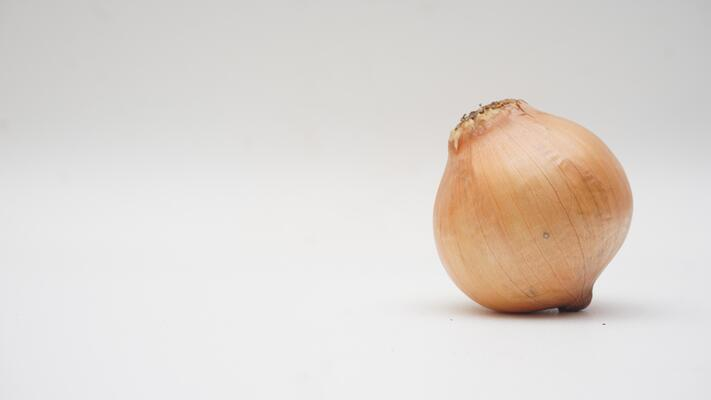onion: (395, 84, 656, 359)
